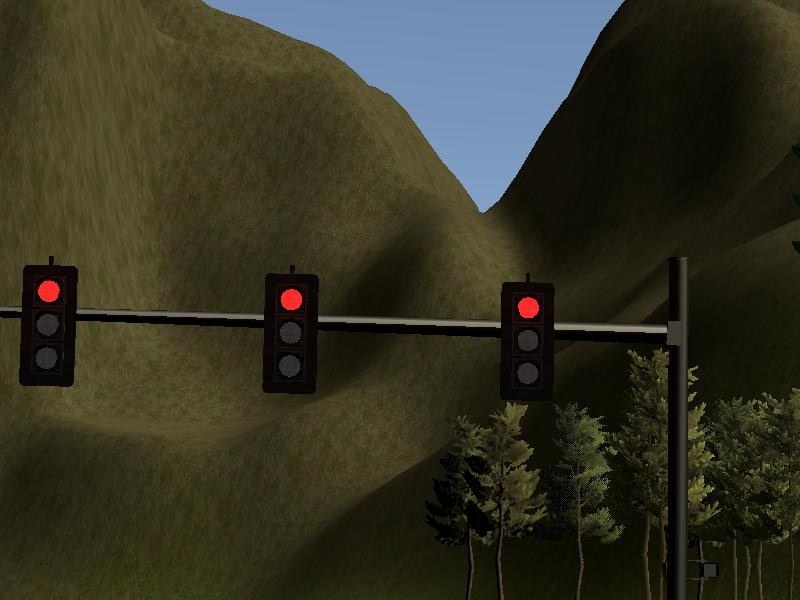red: (259, 265, 324, 401), (18, 257, 79, 392), (495, 277, 557, 405)
